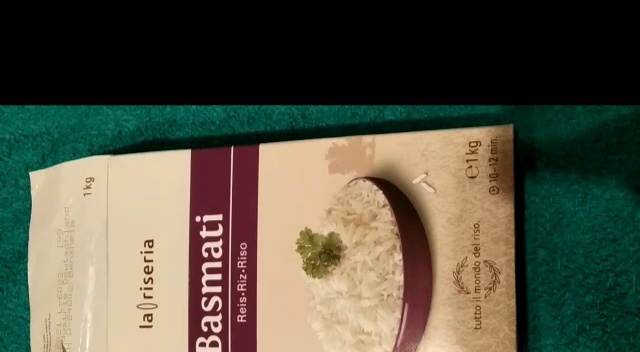basmati_rice: (20, 121, 525, 352)
